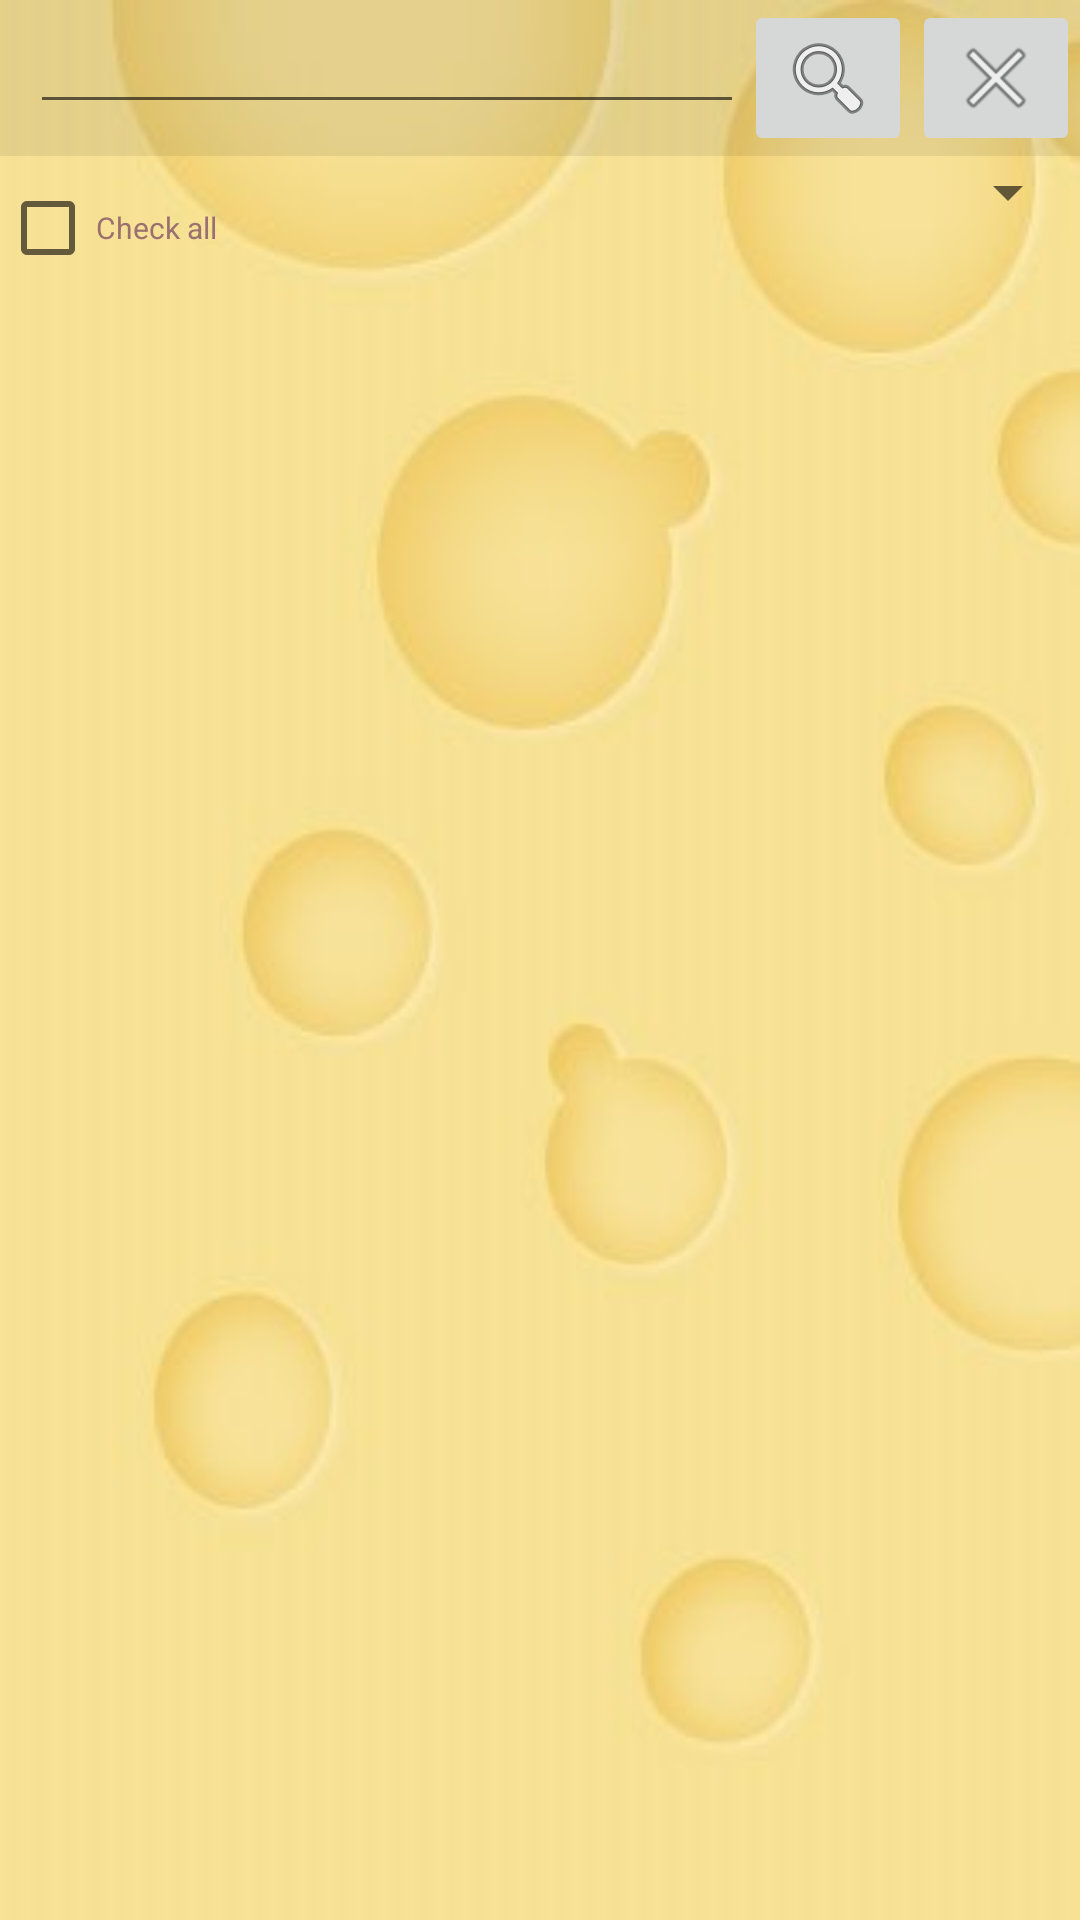

Screen size 1080px×1920px. Icon name, then its box in pixels as (x1, y1, x2, y2):
close clear cancel: (912, 6, 1080, 156)
search: (744, 0, 912, 156)
